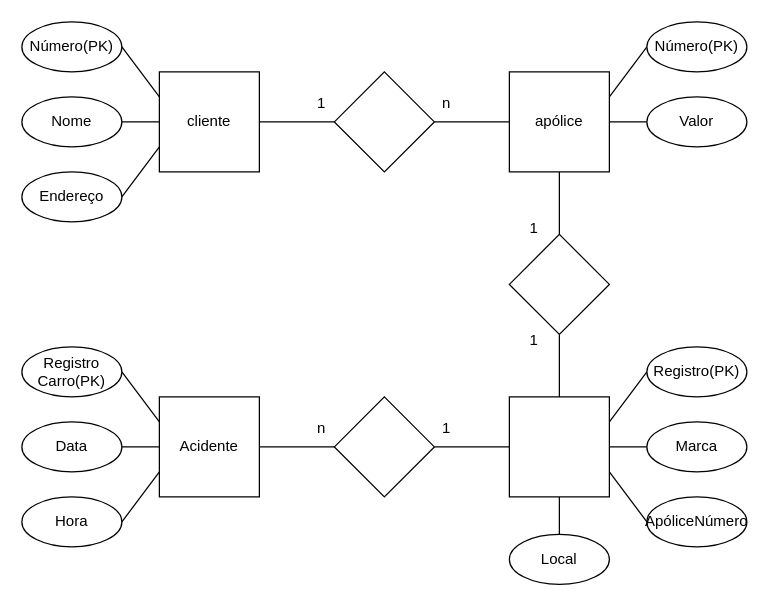
The diagram is 770 pixels wide and 606 high, and some of its shapes have lost their labels. Here are the shapes that lost their labels. From the top down, the centre of each, then its label:
the point at 383,121: possui
the point at 558,283: cobre
the point at 383,446: registra
the point at 558,446: carro
